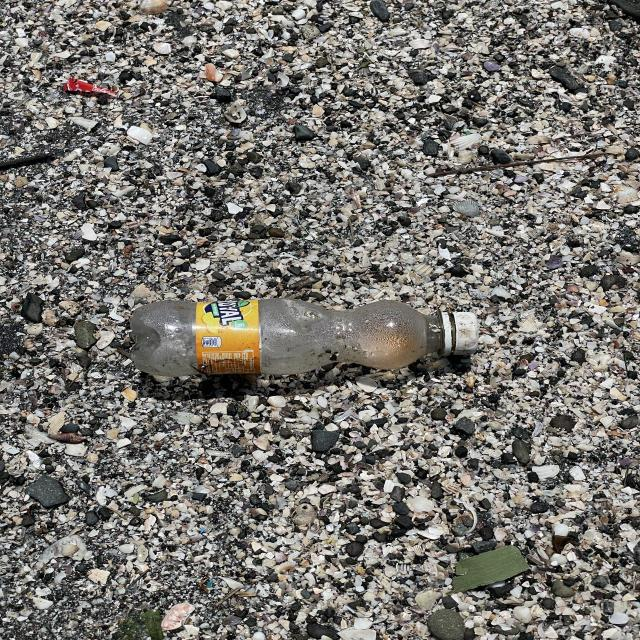plastic_waste: (131, 299, 478, 376), (64, 78, 121, 96)
